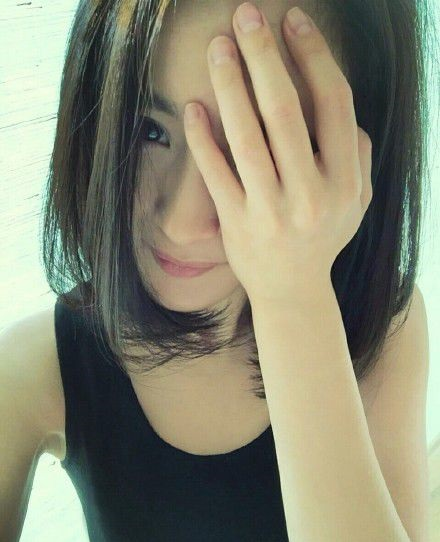face: (124, 10, 294, 310)
